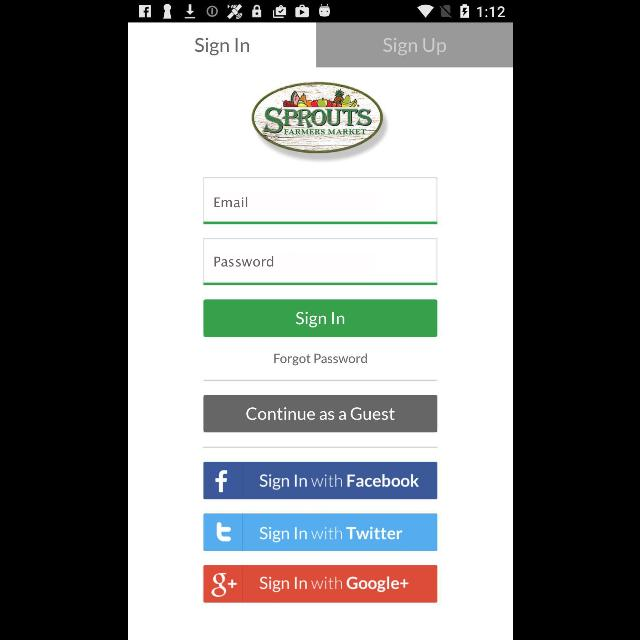image: (251, 82, 383, 154)
input: (203, 238, 437, 286), (203, 178, 437, 225)
text: (274, 354, 366, 366), (194, 38, 248, 56), (214, 256, 272, 266), (214, 196, 246, 208)
textbutton: (203, 462, 437, 500), (316, 23, 512, 67), (203, 566, 437, 602), (203, 514, 437, 550), (203, 396, 437, 432), (203, 300, 437, 336)
uppertaskbar: (128, 1, 512, 23)
